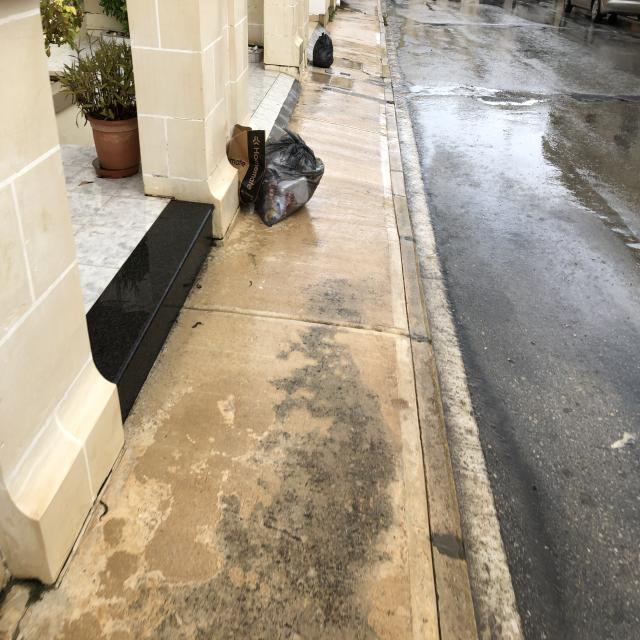Mixed Waste -Black Bag-: (253, 126, 326, 229), (313, 33, 335, 69)
Other: (229, 124, 267, 207)
